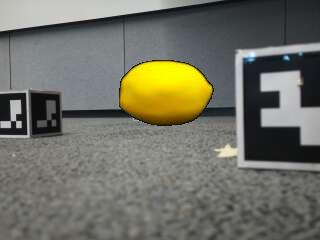lemon: (119, 60, 213, 125)
